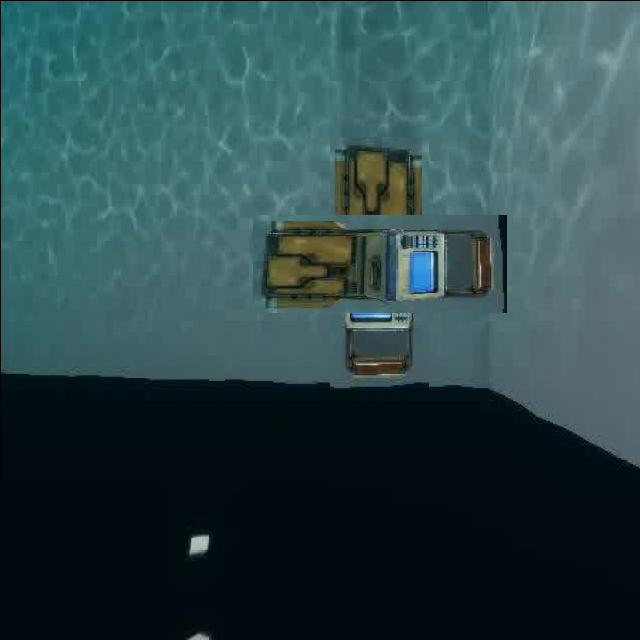Control Panel: (290, 175, 467, 351)
